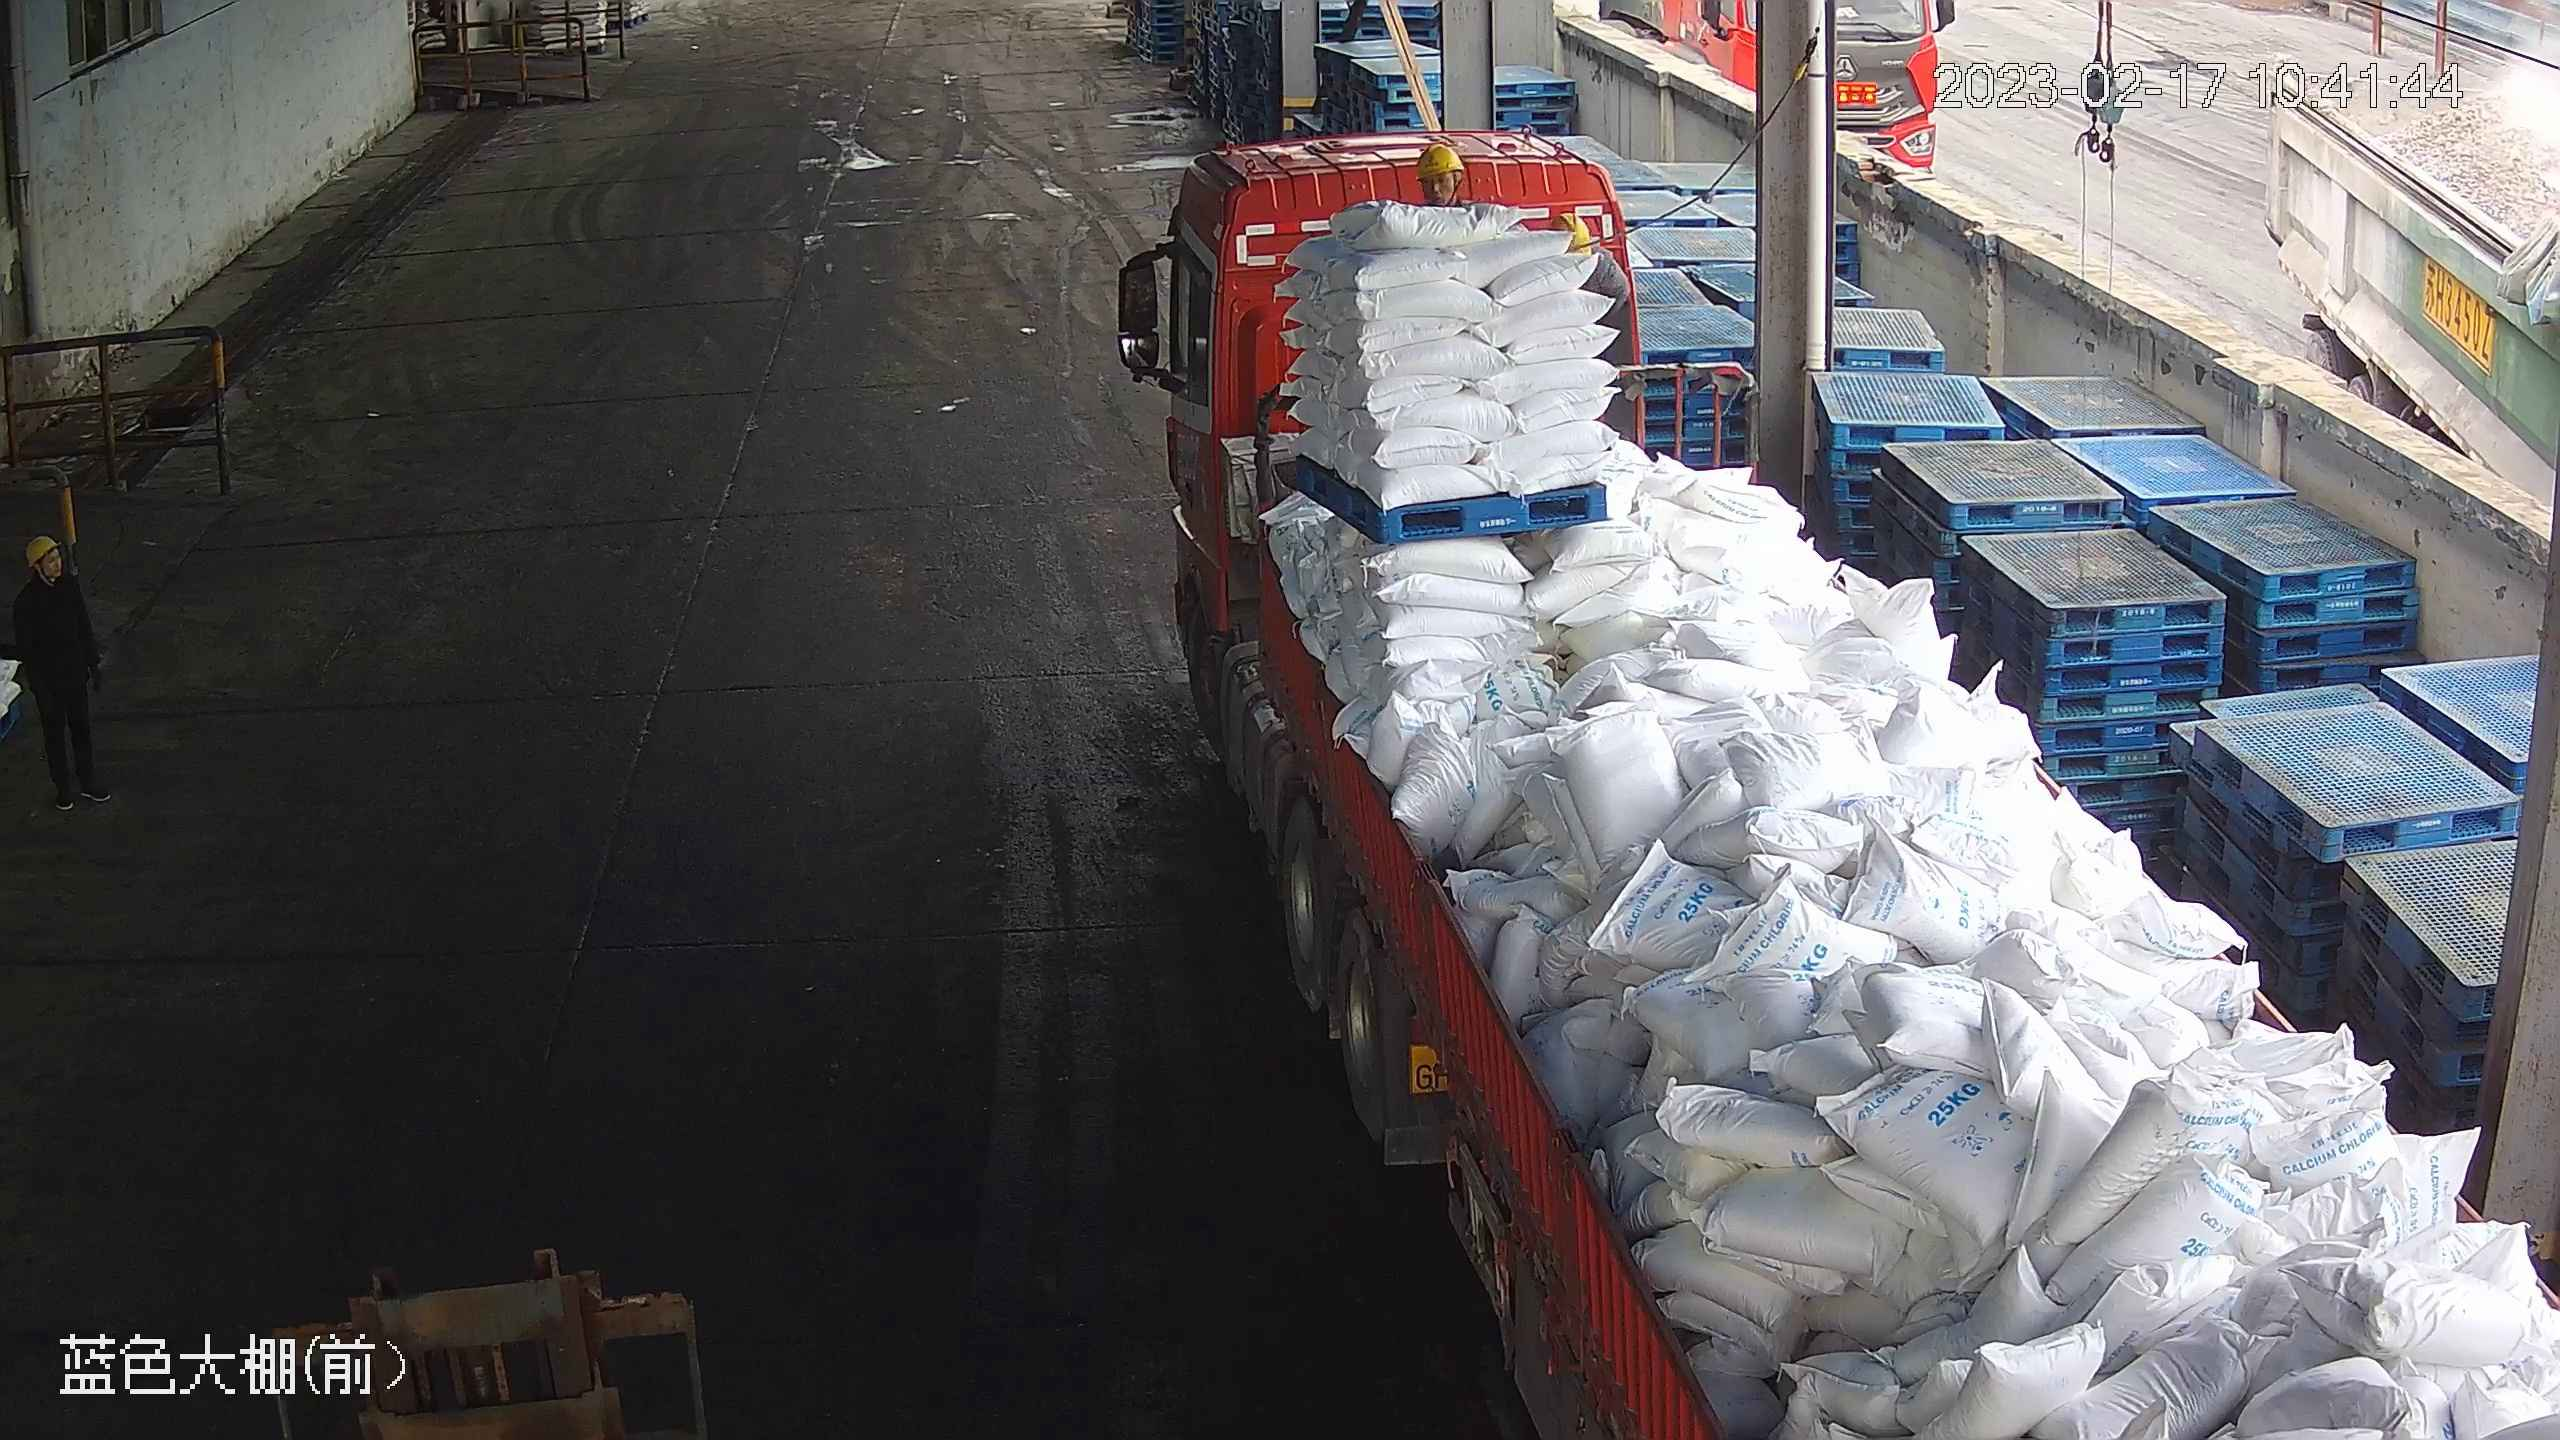belt: (1570, 226, 1629, 292)
head: (11, 534, 91, 617)
helmet: (1415, 140, 1461, 182), (1559, 211, 1596, 248), (24, 535, 62, 565)
people: (7, 533, 112, 812)
truck: (1117, 131, 2556, 1437)
